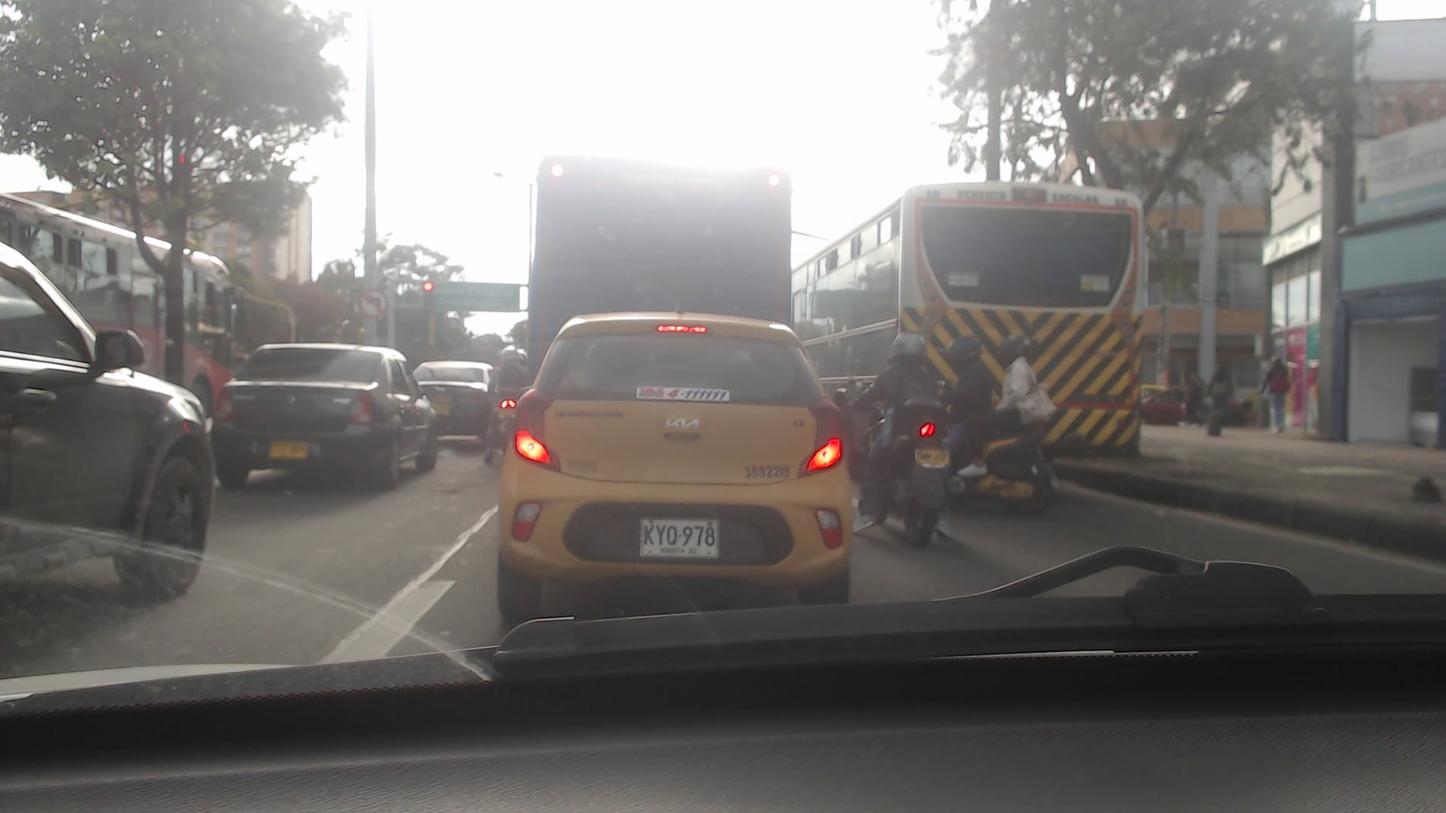bus: (772, 180, 1148, 467)
car: (498, 313, 866, 615), (0, 241, 220, 610), (212, 335, 445, 489), (408, 357, 496, 444)
person: (856, 333, 949, 470), (983, 327, 1042, 443), (946, 336, 989, 452), (488, 341, 533, 414), (1260, 356, 1295, 437), (1203, 362, 1235, 437)
truck: (527, 149, 806, 323)
